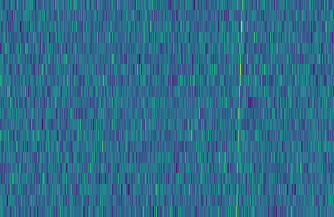signal: (232, 0, 247, 217)
